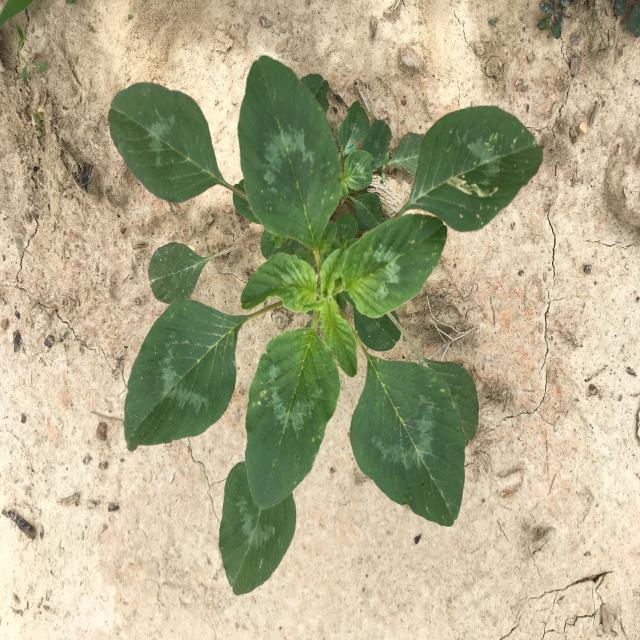PalmerAmaranth: (107, 55, 544, 596)
